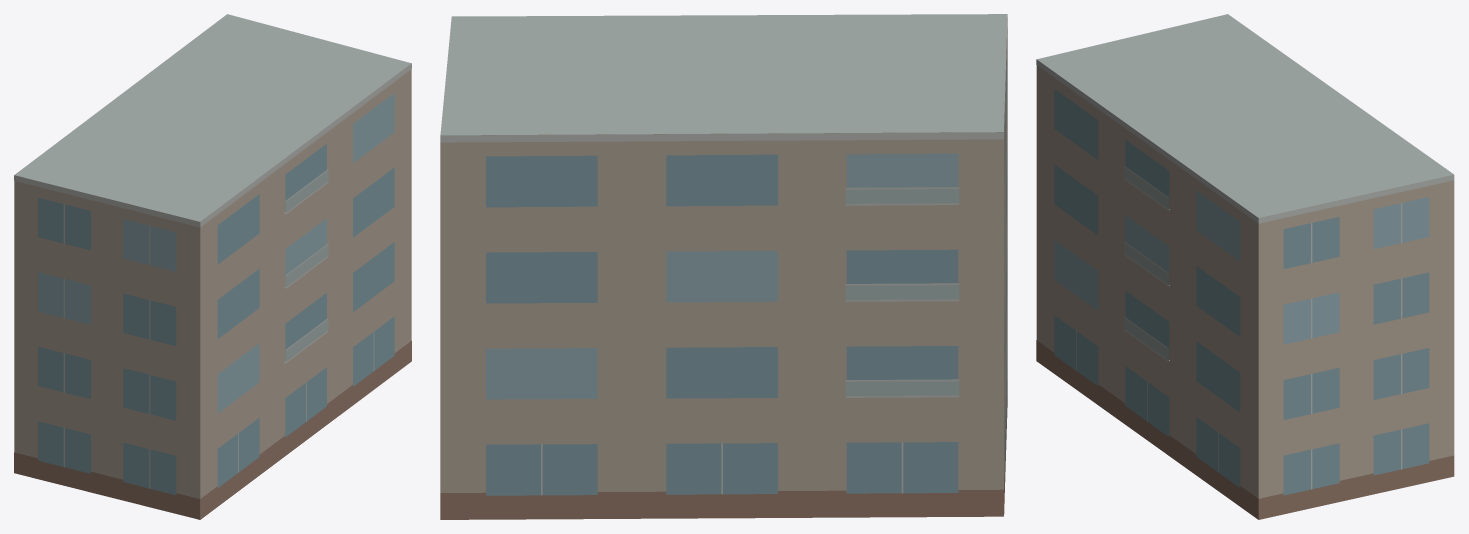
Rendered from survey-upis-32927577.glb.
The picture shows the model from 3 angles, left to right: view 1: azimuth 30°, elevation 25°; view 2: azimuth 150°, elevation 25°; view 3: azimuth 270°, elevation 25°; orthographic projection. The views are drawn at different scales.
Parts seen in each view (by area): view 1: survey-upis-32927577.tmp; view 2: survey-upis-32927577.tmp; view 3: survey-upis-32927577.tmp.
Part boxes in pixels (x1,y1,x2,y2): survey-upis-32927577.tmp: (14, 14, 411, 519); survey-upis-32927577.tmp: (440, 14, 1007, 519); survey-upis-32927577.tmp: (1036, 14, 1454, 519).
Size of the model in its own units: 18.86 by 13 by 16.32.
